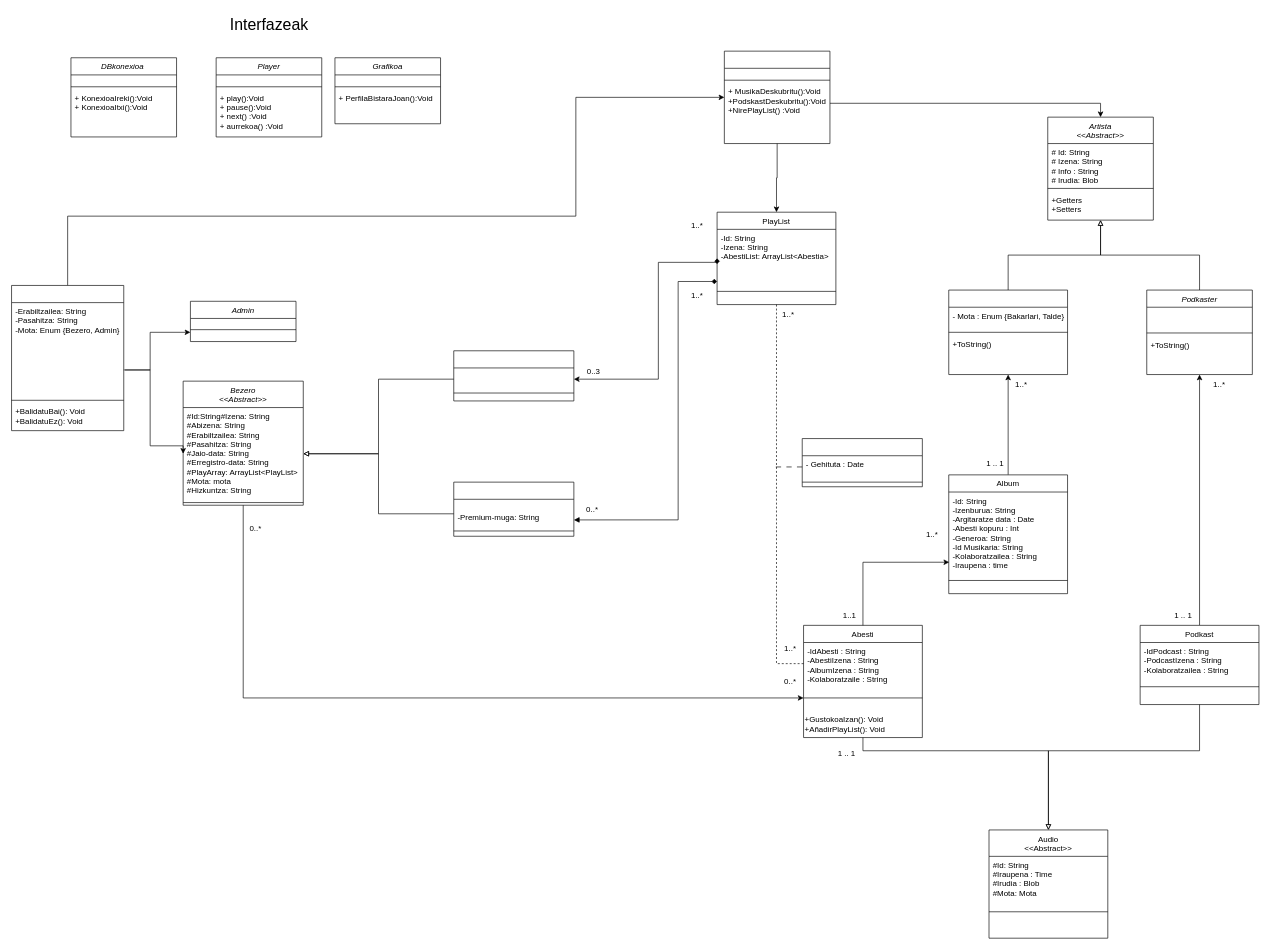
This 1271x950 diagram has some shape labels left out. Here are the shapes that lost their labels. From the top down, the box of each, then its label:
(724, 50, 830, 144): Menu Nagusia
(948, 289, 1068, 375): Abeslari
(11, 285, 124, 431): LogIn
(453, 350, 574, 401): Bezero Free
(802, 438, 922, 487): PlayList Abesti
(453, 481, 574, 536): Bezero Premiun
